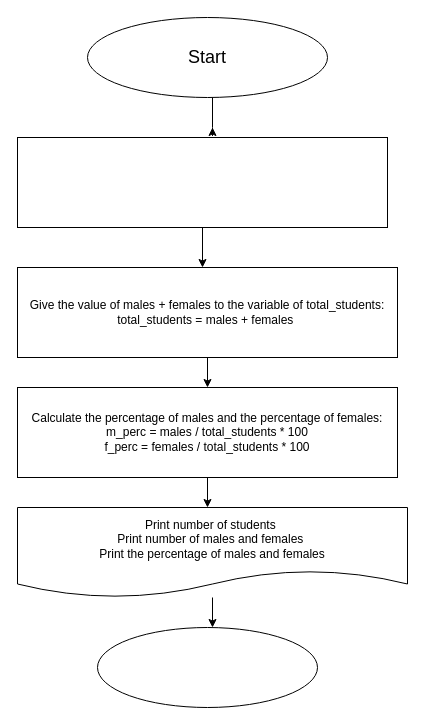
The diagram is 425 pixels wide and 725 high, and some of its shapes have lost their labels. Here are the shapes that lost their labels. From the top down, the box of each, then its label:
(16, 136, 388, 228): Ask two integers values to users males and females
(96, 626, 318, 708): End
